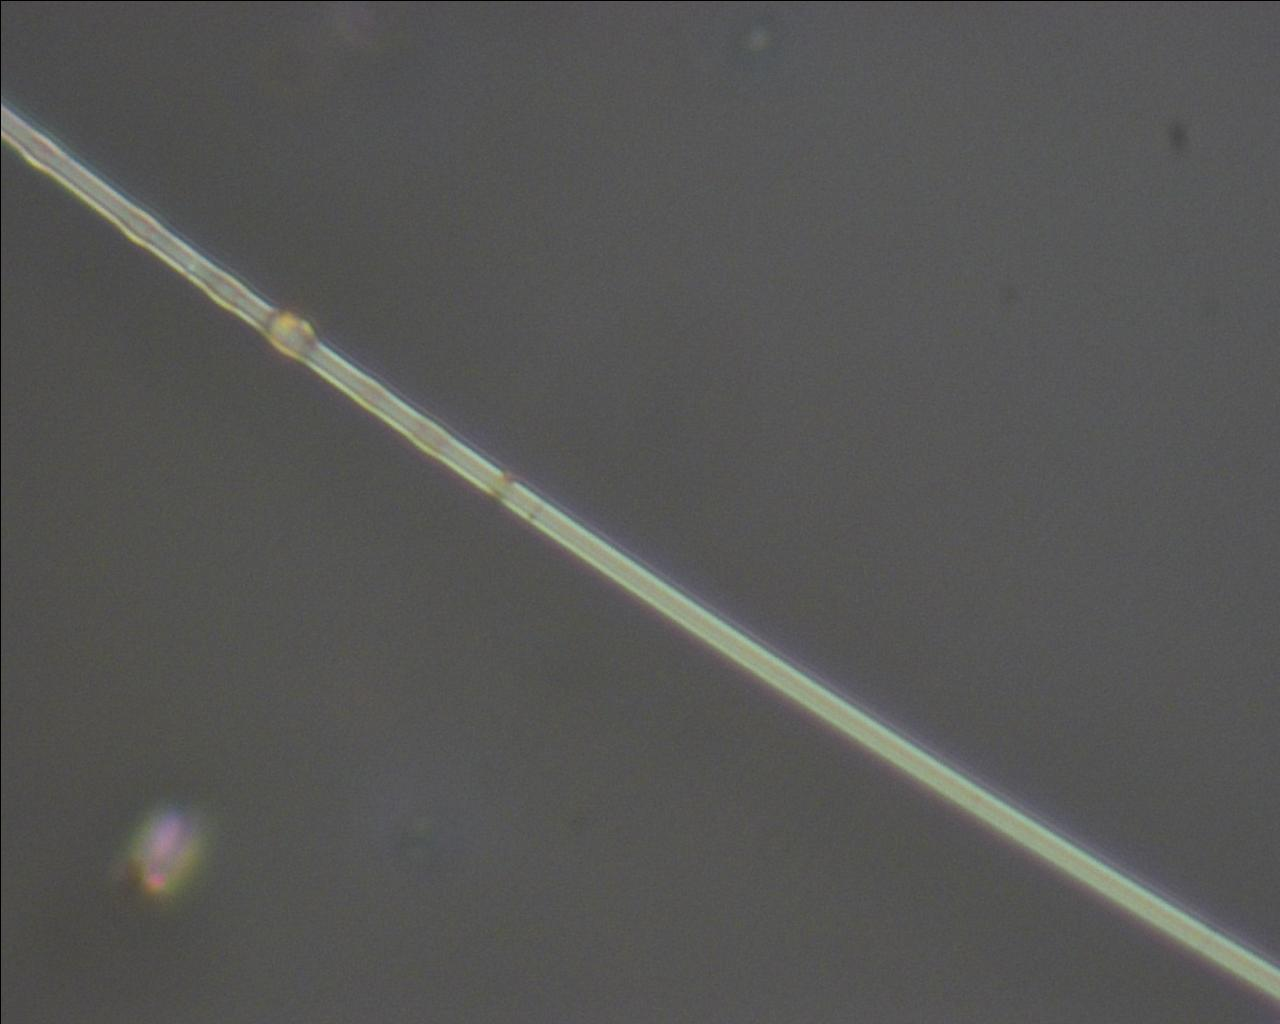fiber: (0, 96, 1280, 1002)
